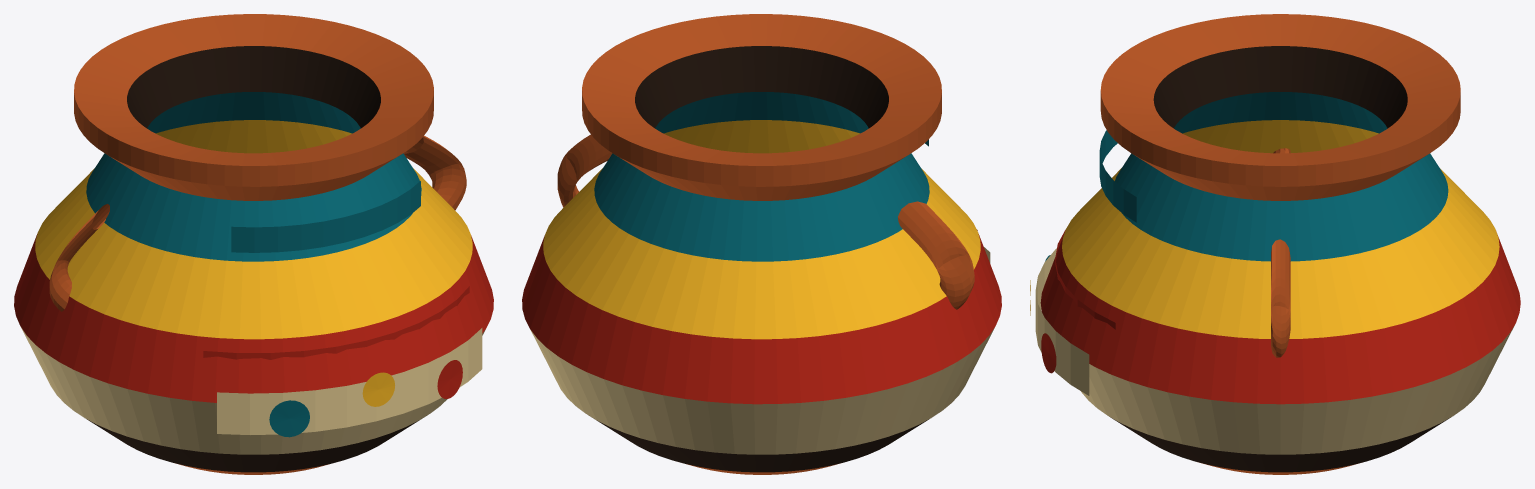
File: painted_pot.obj
The picture shows the model from 3 angles, left to right: view 1: azimuth 30°, elevation 25°; view 2: azimuth 150°, elevation 25°; view 3: azimuth 270°, elevation 25°; orthographic projection.
Visible parts, largest first — view 1: Painted_Pot; view 2: Painted_Pot; view 3: Painted_Pot.
Boxes of the visible parts, bbox=[...] form: Painted_Pot: bbox=[14, 14, 493, 474]; Painted_Pot: bbox=[522, 14, 1001, 474]; Painted_Pot: bbox=[1030, 14, 1520, 474].
Bounding box in the file's own units: 2.73 × 2.08 × 2.78.
